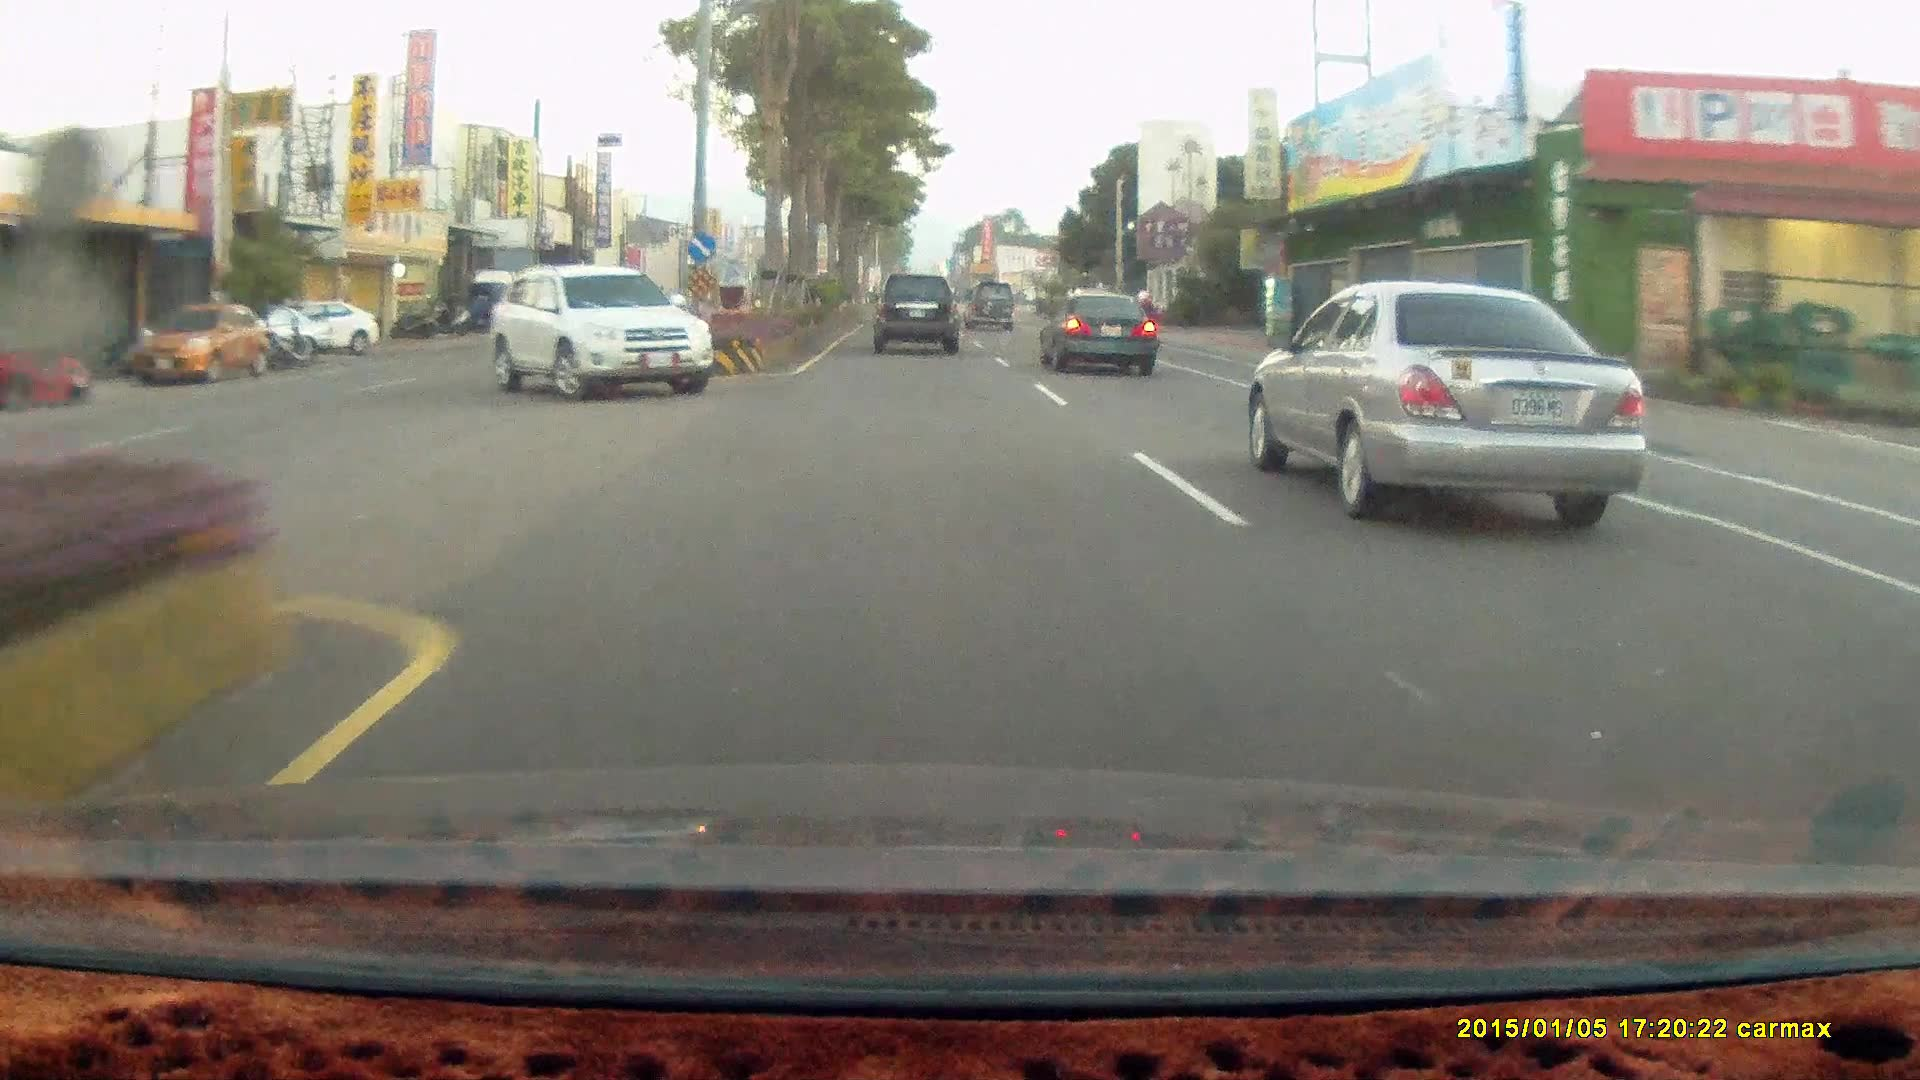vehicle: (1251, 277, 1648, 530), (483, 266, 717, 400), (487, 265, 716, 397), (124, 305, 270, 392), (131, 302, 272, 386), (1036, 287, 1155, 375), (1044, 295, 1159, 380), (872, 273, 967, 360), (1, 324, 91, 414), (262, 302, 381, 360), (261, 295, 378, 353), (872, 272, 957, 351), (963, 281, 1019, 334), (963, 280, 1015, 331)
